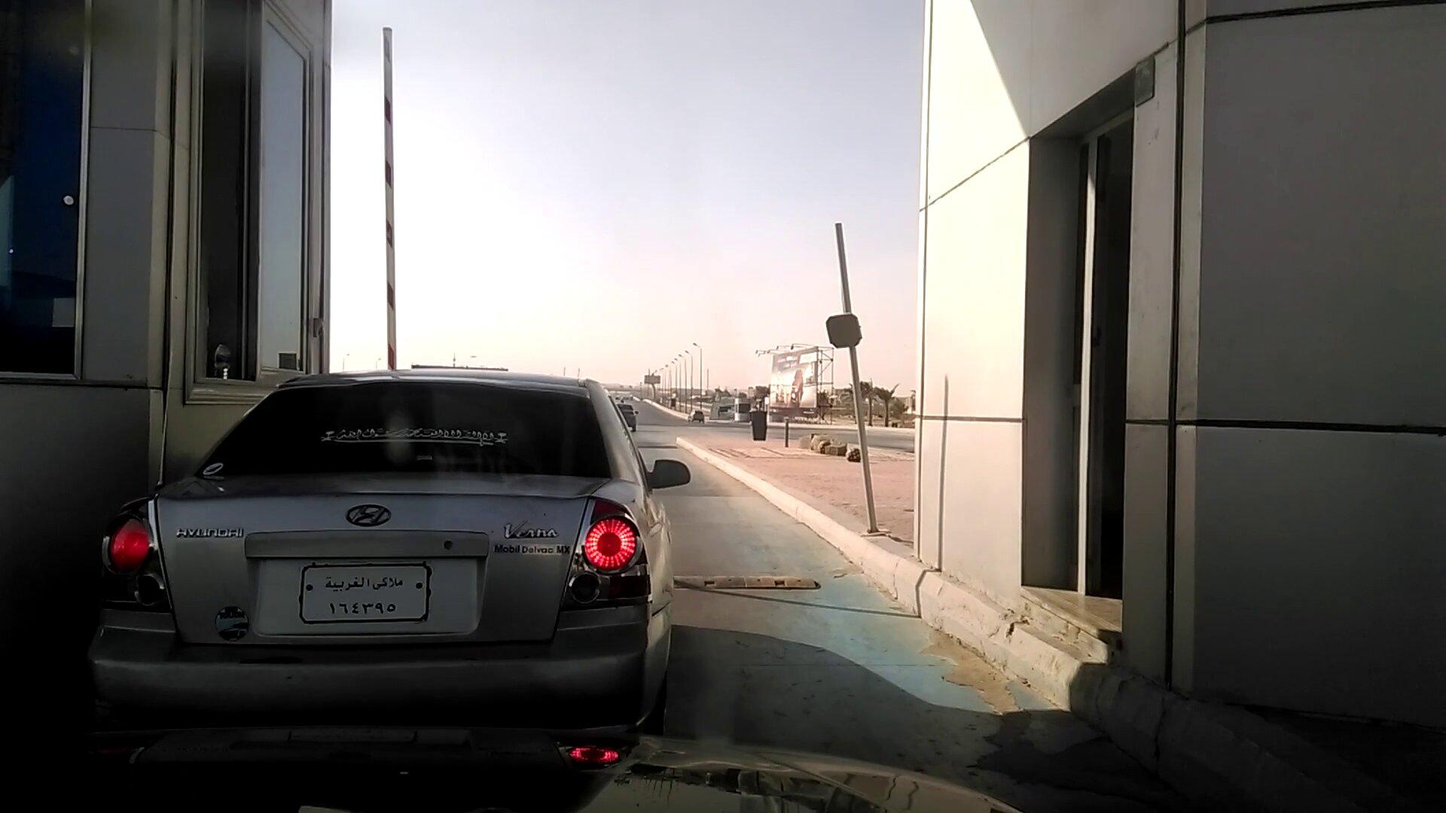Bump: (676, 568, 815, 587)
